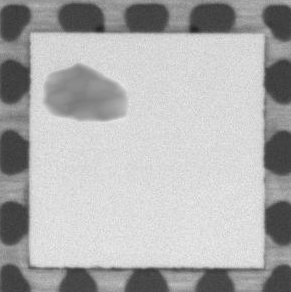DIE_INK: (40, 61, 131, 126)
